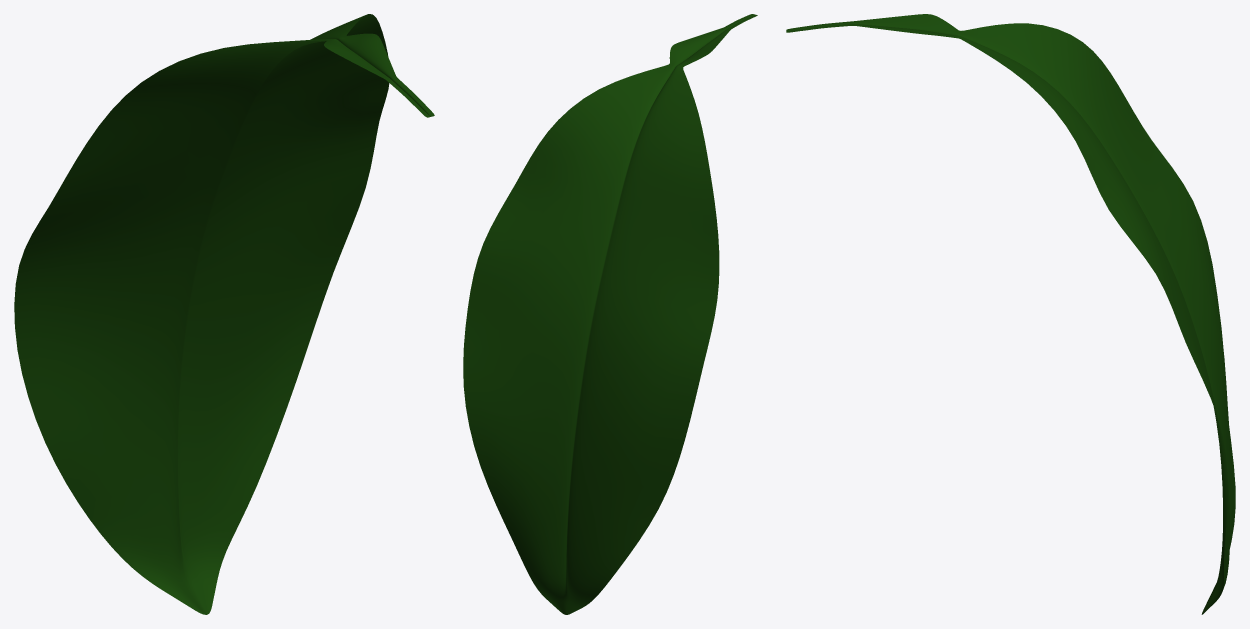
The picture shows the model from 3 angles, left to right: view 1: azimuth 30°, elevation 25°; view 2: azimuth 150°, elevation 25°; view 3: azimuth 270°, elevation 25°; orthographic projection. The views are drawn at different scales.
Parts seen in each view (by area): view 1: Geode; view 2: Geode; view 3: Geode.
Part boxes in pixels (x1=…): Geode: x1=14, y1=14, x2=434, y2=614; Geode: x1=463, y1=14, x2=757, y2=614; Geode: x1=786, y1=14, x2=1235, y2=614.
Bounding box in the file's own units: 0.3269 × 0.6349 × 0.4436.
